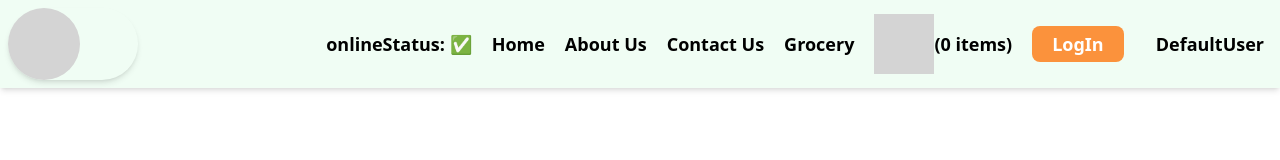
Scenario: should change button LogIn to LogOut on click
Click the button "LogIn".
click(1078, 44)  # box [1032,26,1124,62]
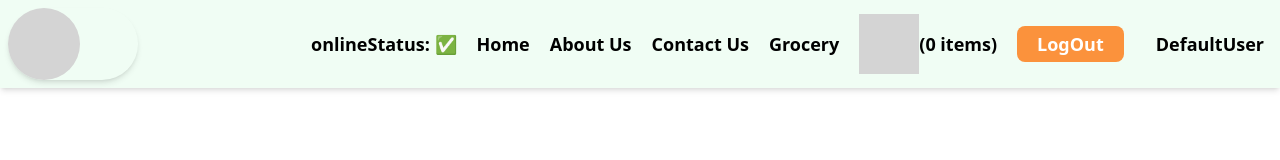
Expected: the button "LogOut" is shown, [1017,26,1124,62]
